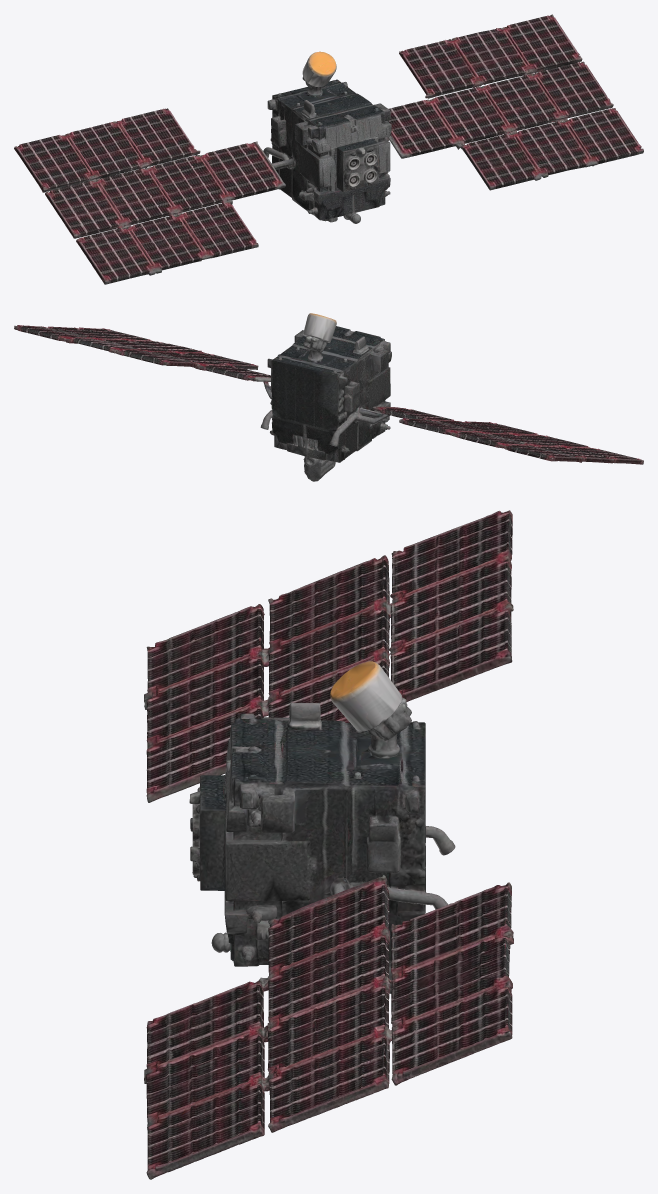
File: destinyplus.glb
3 renders of one model, top to bottom at view 1: azimuth 30°, elevation 25°; view 2: azimuth 150°, elevation 25°; view 3: azimuth 270°, elevation 25°, orthographic. The views are drawn at different scales.
Size of the model in its own units: 1.9 by 0.5519 by 0.5661.
Materials: 1 (1 with a texture image).
